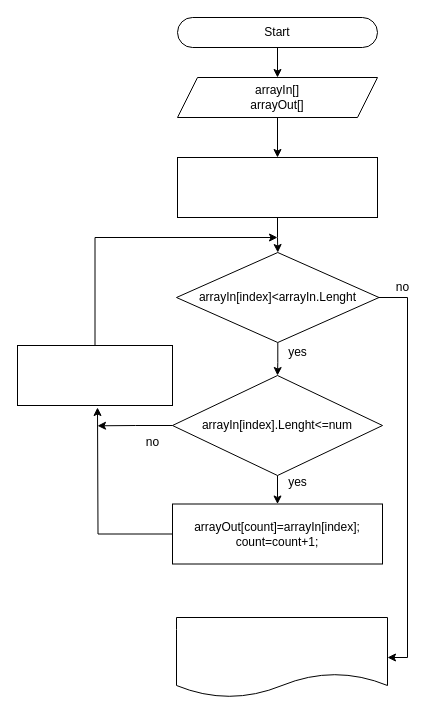
This 440x715 diagram has some shape labels left out. Here are the shapes that lost their labels. From the top down, the centre of each, then its label:
At [277,187]: "index=0; num=3; count=0;".
At [94,375]: "index++".
At [282,657]: "arrayOut[]".
